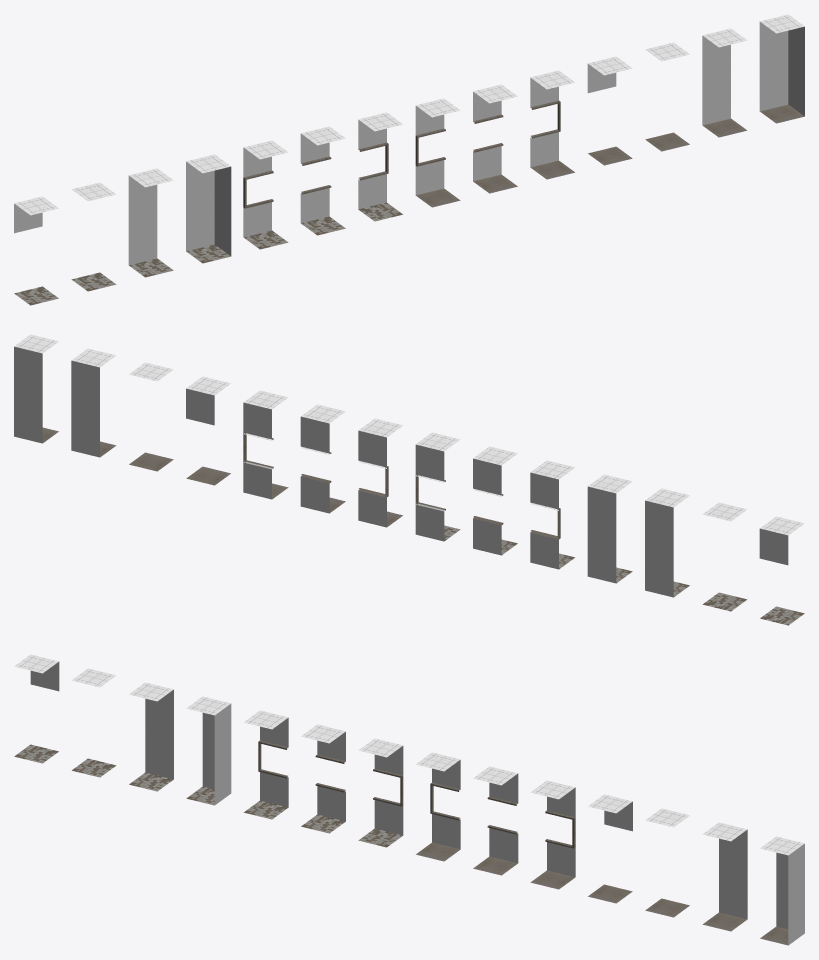
The model's file is tileset.glb.
3 views of the same model, one above another, from view 1: azimuth 30°, elevation 25°; view 2: azimuth 150°, elevation 25°; view 3: azimuth 330°, elevation 25° (orthographic).
Parts seen in each view (by area): view 1: normal-corner-col, broken-corner-col, broken-wall-col, normal-wall-col, normal-windowL-col, broken-windowL-col, normal-windowR-col, broken-windowR-col, broken-windowM-col, normal-windowM-col, normal-doorway-col, broken-doorway-col (+2 smaller); view 2: broken-corner-col, normal-wall-col, broken-wall-col, normal-corner-col, broken-windowR-col, normal-windowR-col, broken-windowL-col, normal-windowL-col, normal-windowM-col, broken-windowM-col, broken-doorway-col, normal-doorway-col (+2 smaller); view 3: broken-corner-col, normal-wall-col, broken-wall-col, normal-corner-col, broken-windowR-col, normal-windowR-col, broken-windowL-col, normal-windowL-col, normal-windowM-col, broken-windowM-col, broken-doorway-col, normal-doorway-col (+2 smaller).
Boxes of the visible parts, bbox=[...] form: normal-corner-col: bbox=[759, 14, 804, 123]; broken-corner-col: bbox=[186, 154, 231, 263]; broken-wall-col: bbox=[128, 168, 173, 277]; normal-wall-col: bbox=[702, 28, 747, 137]; normal-windowL-col: bbox=[415, 98, 460, 207]; broken-windowL-col: bbox=[243, 140, 288, 249]; normal-windowR-col: bbox=[530, 70, 574, 179]; broken-windowR-col: bbox=[358, 112, 402, 221]; broken-windowM-col: bbox=[300, 126, 345, 235]; normal-windowM-col: bbox=[473, 84, 517, 193]; normal-doorway-col: bbox=[587, 56, 632, 165]; broken-doorway-col: bbox=[14, 196, 58, 305]; broken-corner-col: bbox=[587, 474, 632, 583]; normal-wall-col: bbox=[71, 348, 116, 457]; broken-wall-col: bbox=[645, 488, 689, 597]; normal-corner-col: bbox=[14, 334, 58, 443]; broken-windowR-col: bbox=[415, 432, 460, 541]; normal-windowR-col: bbox=[243, 390, 288, 499]; broken-windowL-col: bbox=[530, 460, 574, 569]; normal-windowL-col: bbox=[358, 418, 402, 527]; normal-windowM-col: bbox=[300, 404, 345, 513]; broken-windowM-col: bbox=[473, 446, 517, 555]; broken-doorway-col: bbox=[759, 516, 804, 625]; normal-doorway-col: bbox=[186, 376, 230, 485]; broken-corner-col: bbox=[186, 696, 231, 805]; normal-wall-col: bbox=[702, 822, 747, 931]; broken-wall-col: bbox=[129, 682, 173, 791]; normal-corner-col: bbox=[760, 836, 804, 945]; broken-windowR-col: bbox=[358, 738, 403, 847]; normal-windowR-col: bbox=[530, 780, 575, 889]; broken-windowL-col: bbox=[244, 710, 288, 819]; normal-windowL-col: bbox=[416, 752, 460, 861]; normal-windowM-col: bbox=[473, 766, 518, 875]; broken-windowM-col: bbox=[301, 724, 345, 833]; broken-doorway-col: bbox=[14, 654, 59, 763]; normal-doorway-col: bbox=[588, 794, 632, 903].
Bounding box in the file's own units: 27 × 3 × 1.
1 material, 1 textured.
